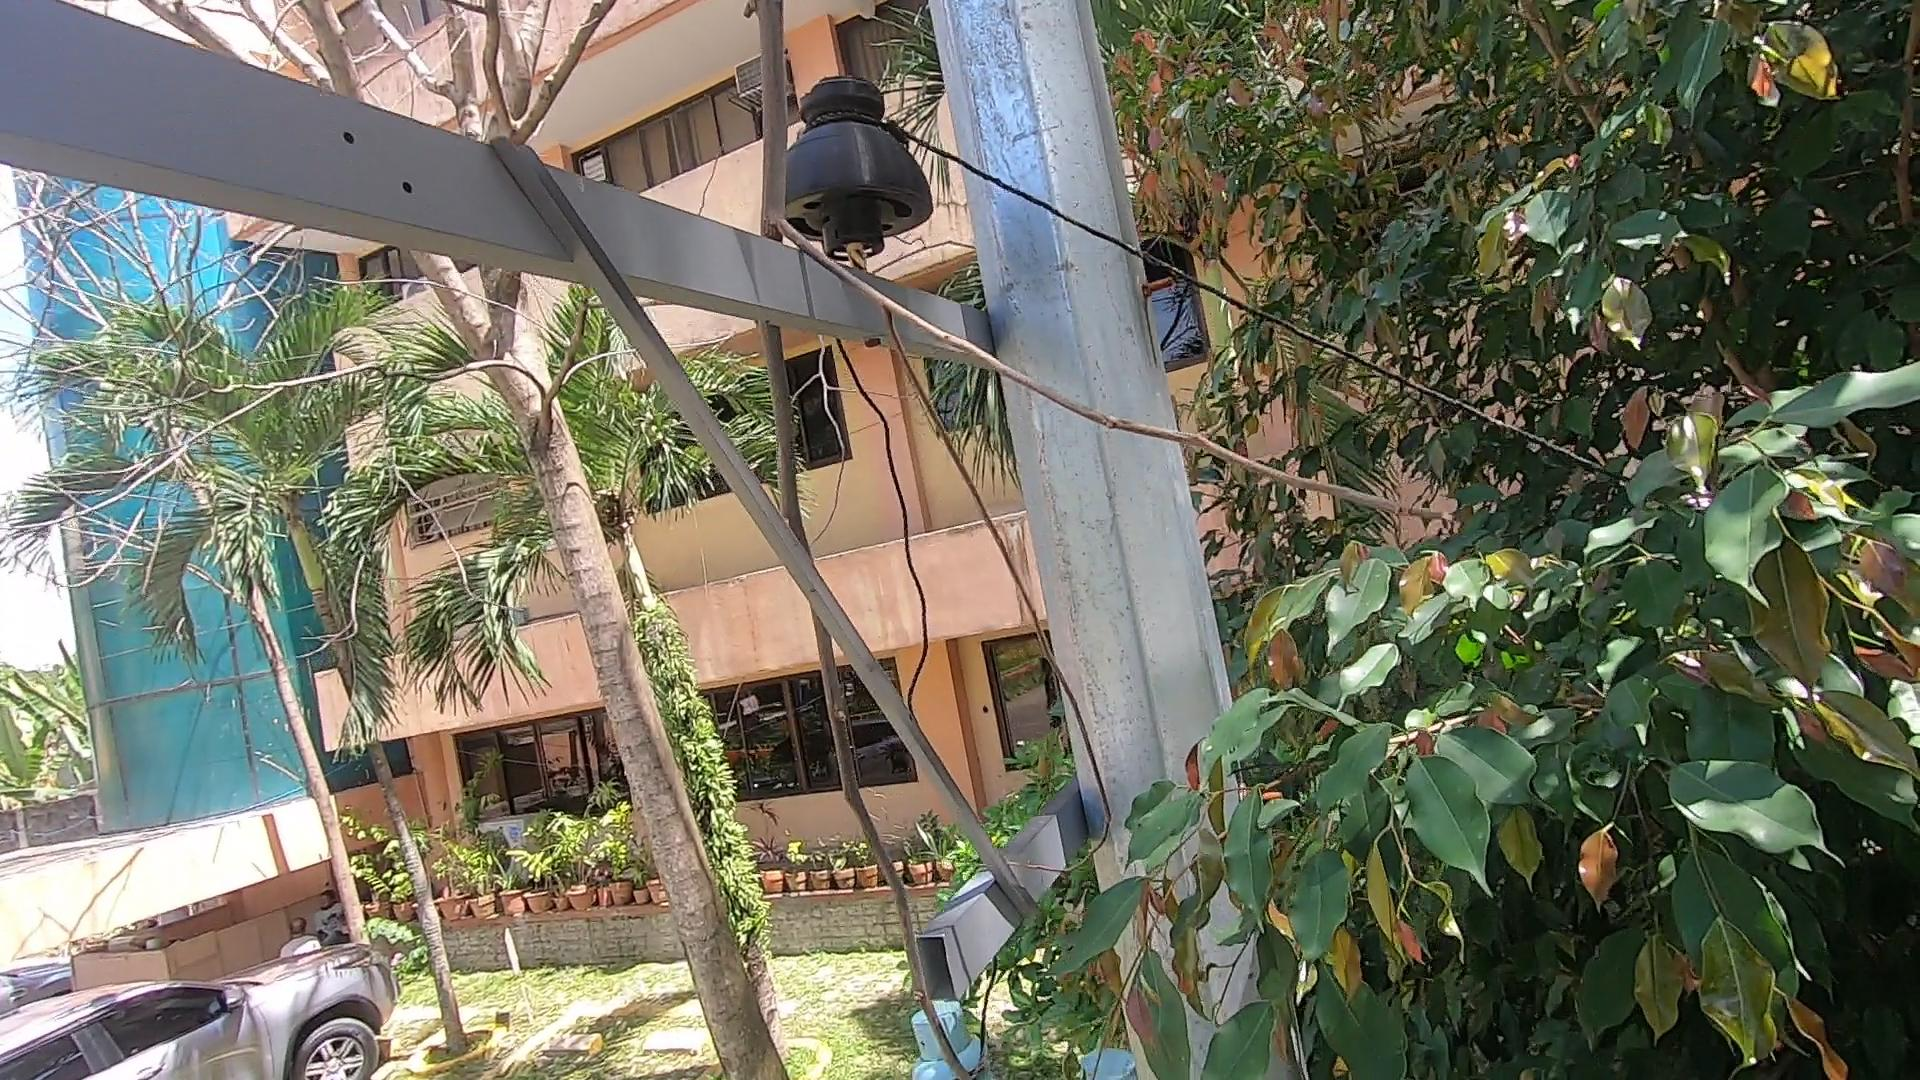branch with leaves: (1048, 877, 1418, 1080)
tree branch: (702, 3, 1055, 1080)
